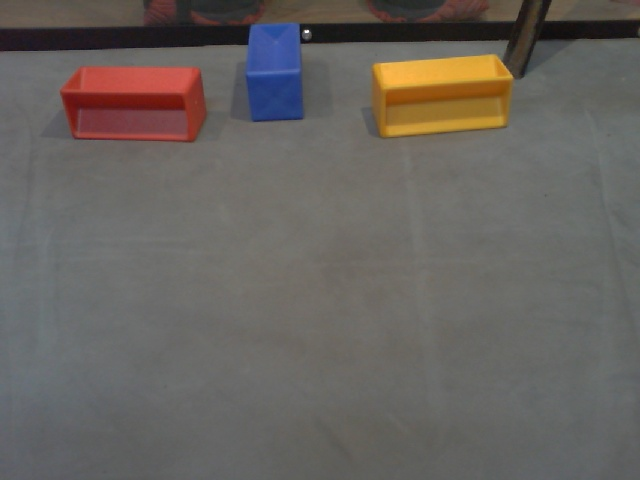BlueSample: (243, 18, 307, 124)
RedSample: (57, 62, 210, 146)
YellowSample: (368, 52, 521, 139)
